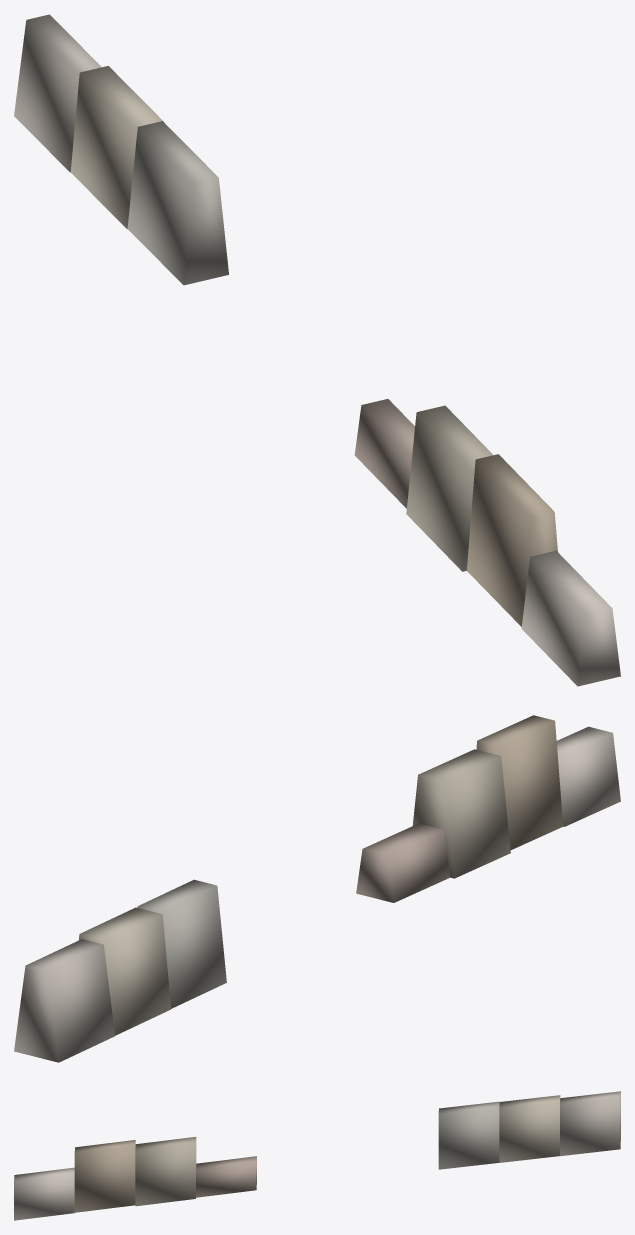
File: farm_6_37_collision.glb
3 renders of one model, top to bottom at view 1: azimuth 30°, elevation 25°; view 2: azimuth 150°, elevation 25°; view 3: azimuth 270°, elevation 25°, orthographic. The views are drawn at different scales.
Visible parts, largest first — view 1: geometry_0; view 2: geometry_0; view 3: geometry_0.
Part boxes in pixels (<box>): geometry_0: <box>14,14,620,686</box>; geometry_0: <box>14,715,620,1062</box>; geometry_0: <box>14,1091,620,1220</box>.
Bounding box in the file's own units: 0.8918 × 3.32 × 14.61.
